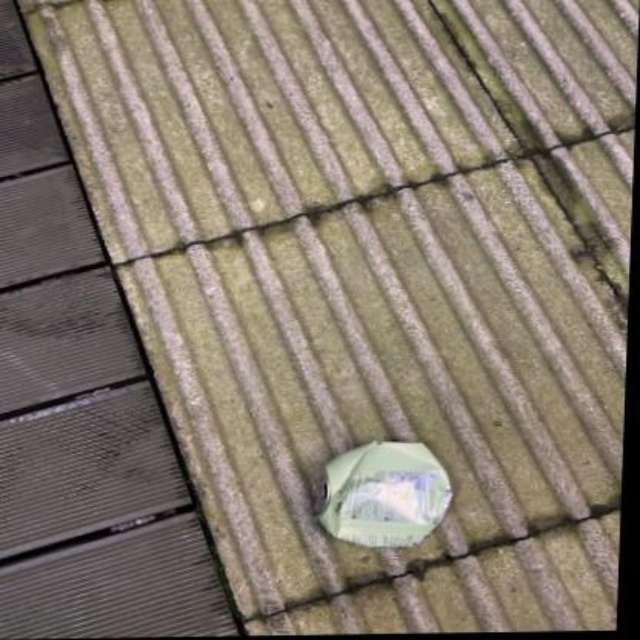trash: (320, 442, 451, 546)
